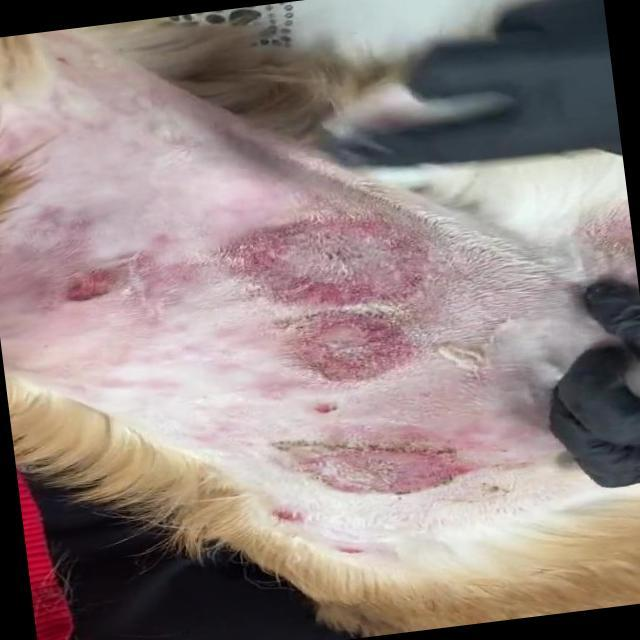allergic dermatitis: (232, 210, 476, 500), (64, 249, 118, 316)
